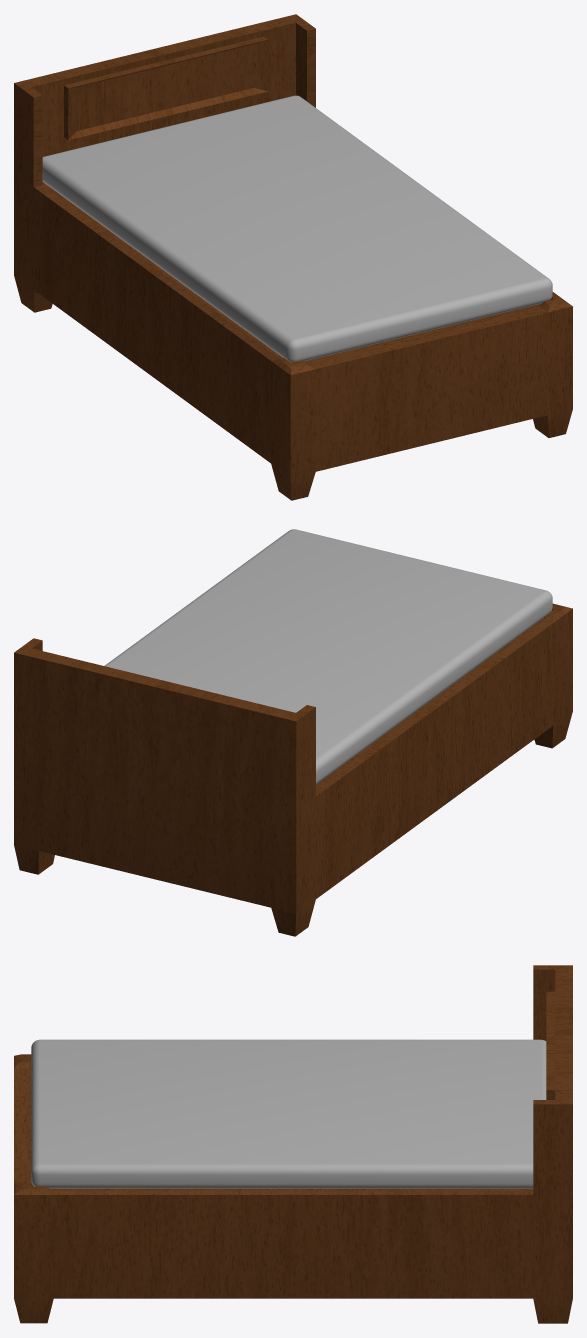
File: Bed .fbx
The picture shows the model from 3 angles, top to bottom: view 1: azimuth 30°, elevation 25°; view 2: azimuth 150°, elevation 25°; view 3: azimuth 270°, elevation 25°; orthographic projection.
Visible parts, largest first — view 1: Bed; view 2: Bed; view 3: Bed.
Boxes of the visible parts, x1=… form: Bed: x1=14, y1=14, x2=572, y2=500; Bed: x1=14, y1=529, x2=572, y2=936; Bed: x1=14, y1=965, x2=572, y2=1323.
Bounding box in the file's own units: 1045 × 774 × 1775.
Materials: 2 (1 with a texture image).
